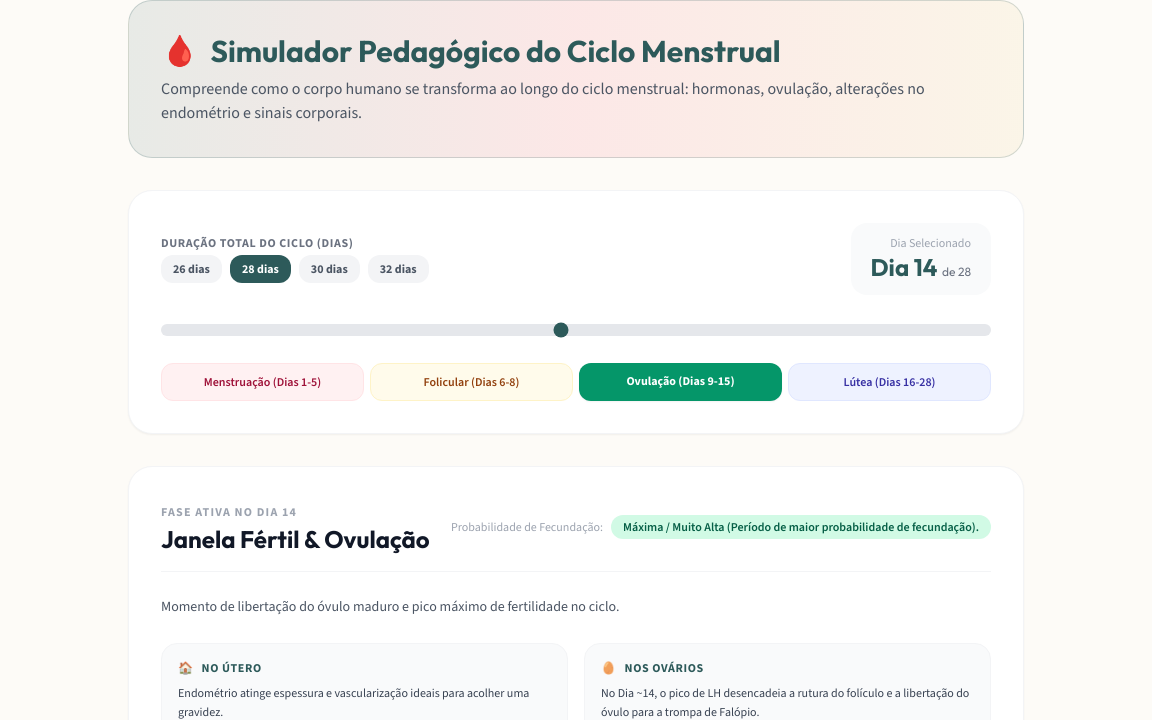
it: MenstrualCycleSim › slider updates selected day
Set the slider named "selecionar dia do ciclo menstrual" to "3" at (229, 330), box left=161, top=324, right=991, bottom=336
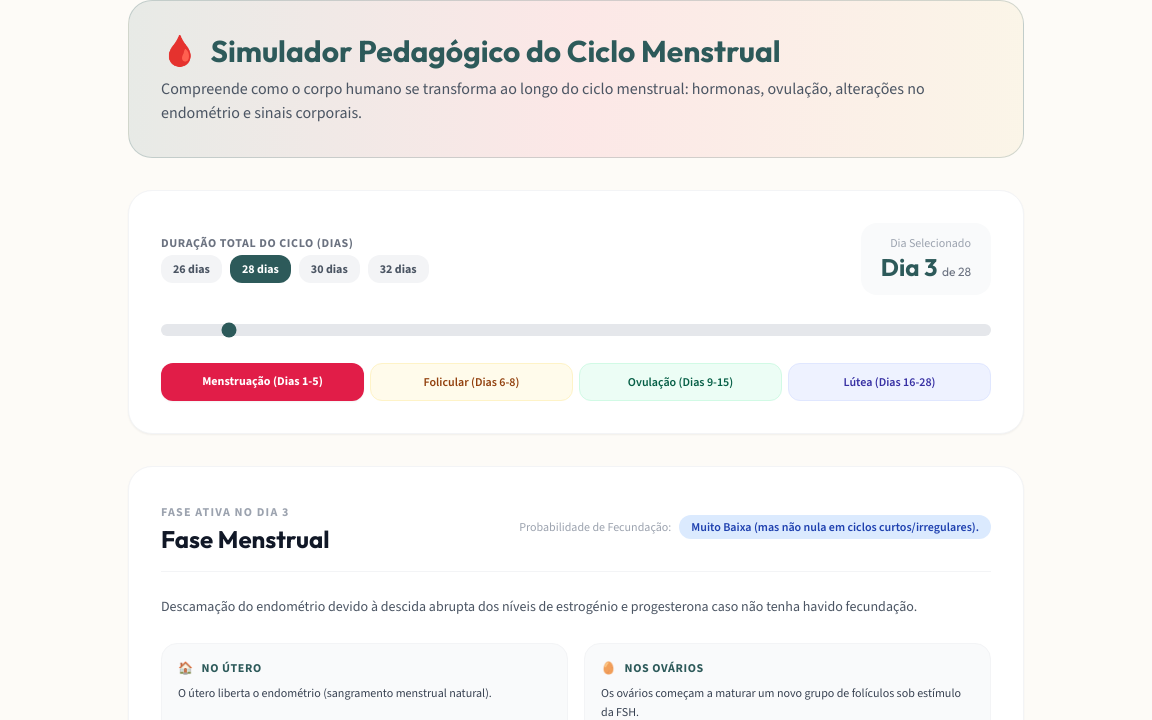
Check: the text "Dia 3 de 28" is shown, box left=881, top=252, right=971, bottom=282
